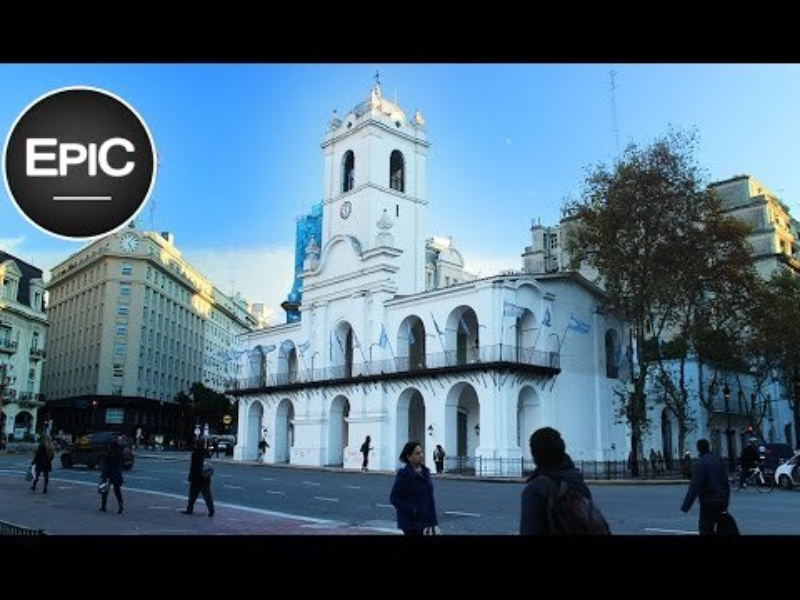cabildo: (223, 68, 563, 476)
